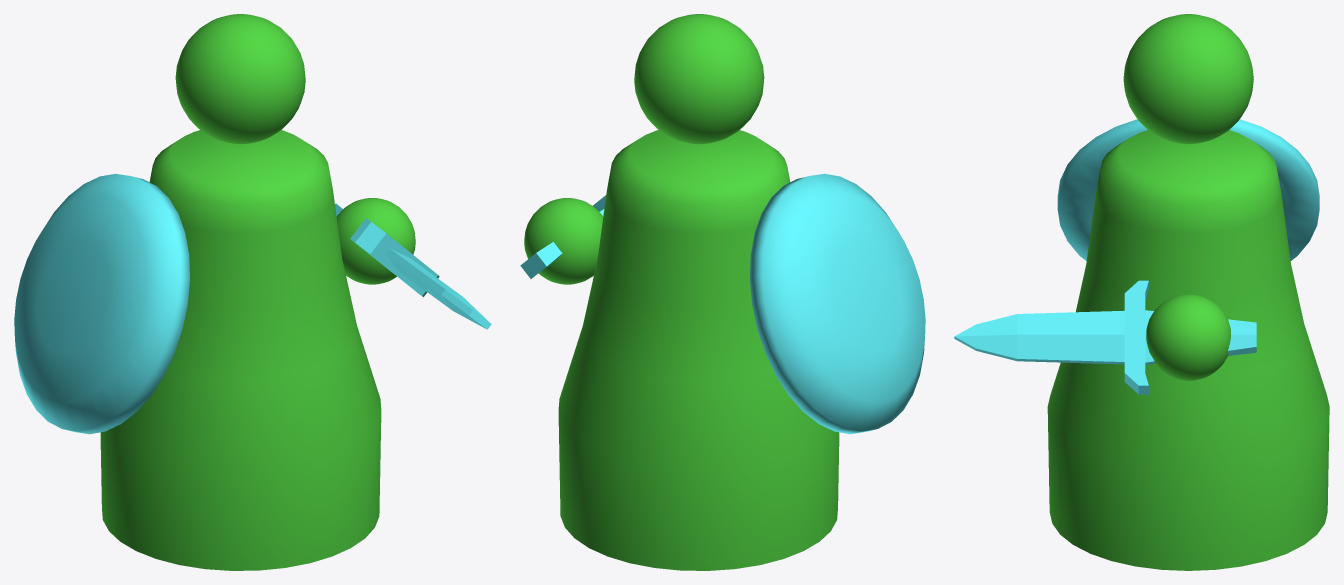
The model's file is WarriorVar1Model.fbx.
3 views of the same model, side by side, from view 1: azimuth 30°, elevation 25°; view 2: azimuth 150°, elevation 25°; view 3: azimuth 270°, elevation 25° (orthographic).
Parts seen in each view (by area): view 1: Circle.028; view 2: Circle.028; view 3: Circle.028.
Part boxes in pixels (x1,y1,x2,y2): Circle.028: [14, 14, 491, 570]; Circle.028: [520, 14, 925, 570]; Circle.028: [954, 14, 1329, 570].
Size of the model in its own units: 1.98 by 2.5 by 1.73.
